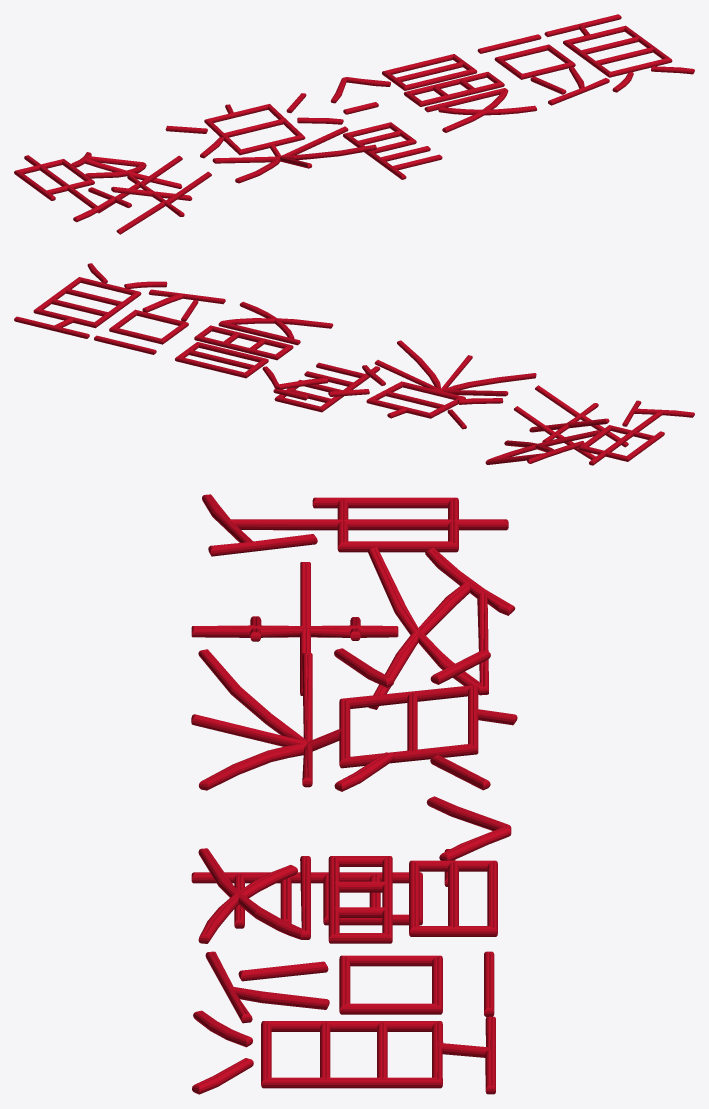
File: baked_houraku1.fbx
The picture shows the model from 3 angles, top to bottom: view 1: azimuth 30°, elevation 25°; view 2: azimuth 150°, elevation 25°; view 3: azimuth 270°, elevation 25°; orthographic projection. The views are drawn at different scales.
Parts seen in each view (by area): view 1: 蜂楽饅頭.フレーム.004; view 2: 蜂楽饅頭.フレーム.004; view 3: 蜂楽饅頭.フレーム.004.
Part boxes in pixels (<box>): 蜂楽饅頭.フレーム.004: <box>14,14,694,234</box>; 蜂楽饅頭.フレーム.004: <box>14,263,694,465</box>; 蜂楽饅頭.フレーム.004: <box>191,494,517,1094</box>.
Bounding box in the file's own units: 283 × 17.51 × 65.57.
